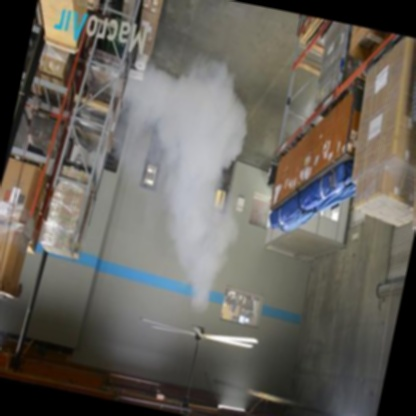smoke: (91, 47, 280, 322)
